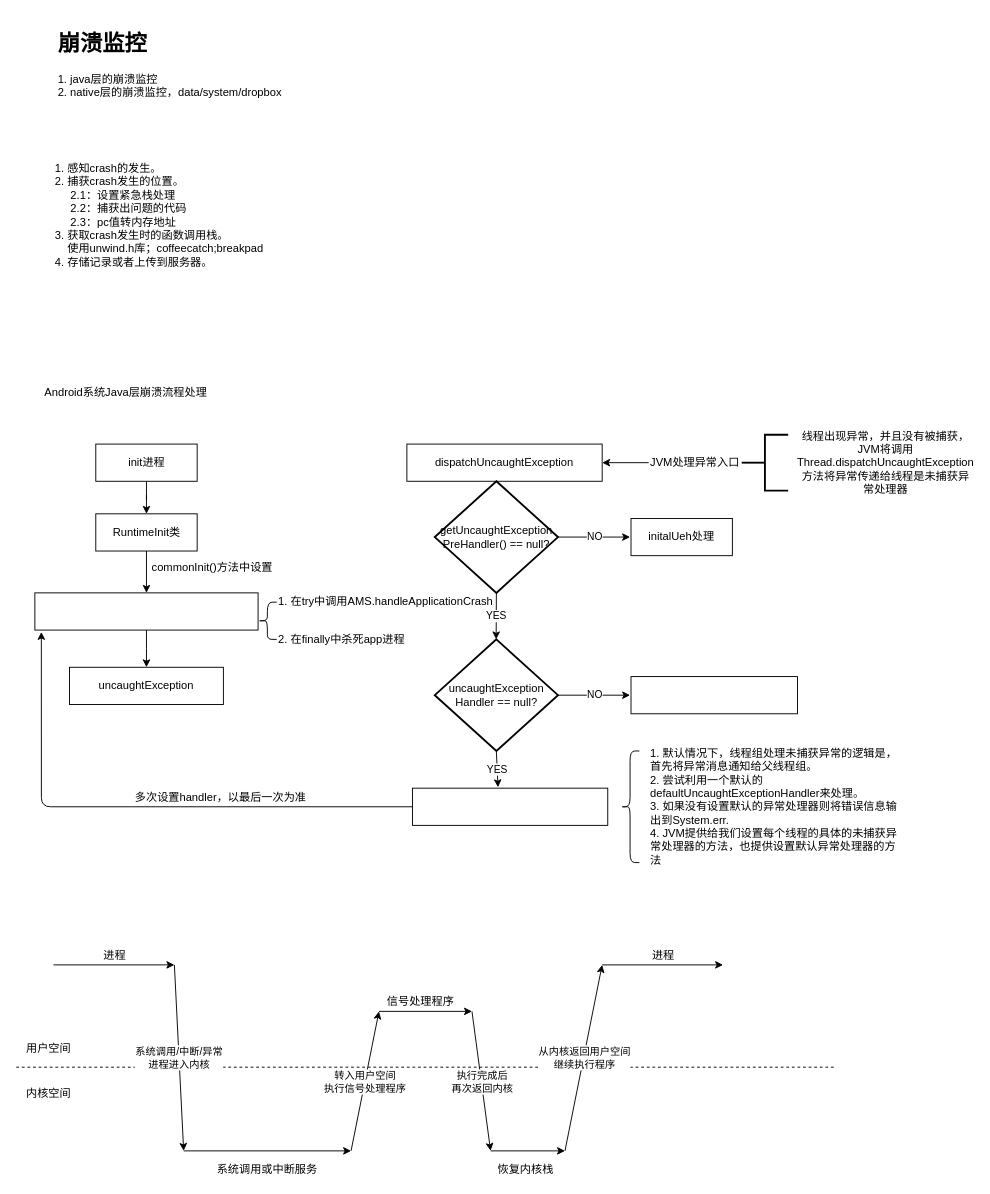
Some shapes in this 990 by 1194 pixel diagram are drawn without their labels. Each missing label, with the box of its shape:
setDefaultUncaughtExceptionHandler KillApplicationHandler: (34, 592, 258, 630)
ThreadGroup: (412, 787, 608, 825)
uncaughtExceptionHandler处理: (630, 676, 797, 714)
